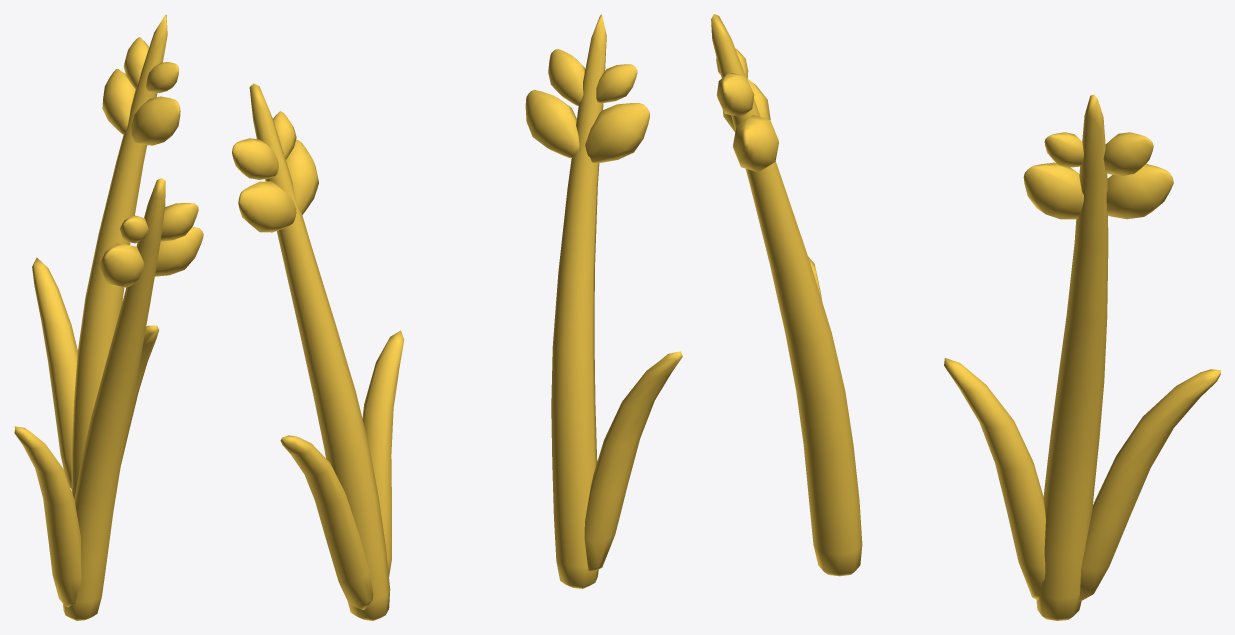
The model's file is wheat stage 2.glb.
The picture shows the model from 3 angles, left to right: view 1: azimuth 30°, elevation 25°; view 2: azimuth 150°, elevation 25°; view 3: azimuth 270°, elevation 25°; orthographic projection. The views are drawn at different scales.
Parts seen in each view (by area): view 1: WheatStage2; view 2: WheatStage2; view 3: WheatStage2.
Part boxes in pixels (x1=…): WheatStage2: x1=14, y1=14, x2=203, y2=620; WheatStage2: x1=232, y1=14, x2=682, y2=620; WheatStage2: x1=711, y1=14, x2=1220, y2=620.
Size of the model in its own units: 0.3367 by 0.5715 by 0.447.
1 material, 1 textured.
